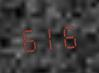one: (39, 20, 58, 52)
six: (18, 22, 37, 53), (59, 19, 78, 50)
